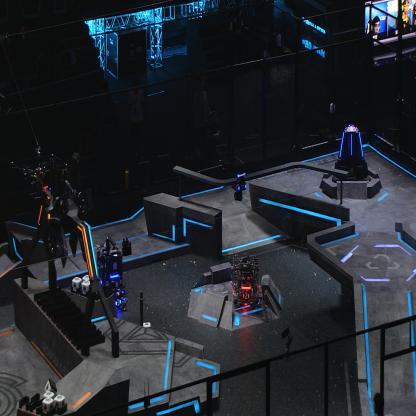car: (231, 250, 259, 312), (96, 237, 124, 296), (104, 280, 127, 312)
